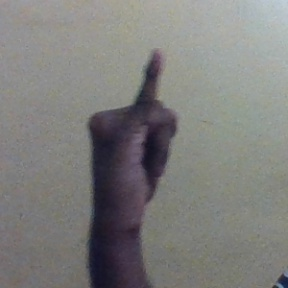I: (91, 46, 186, 227)
